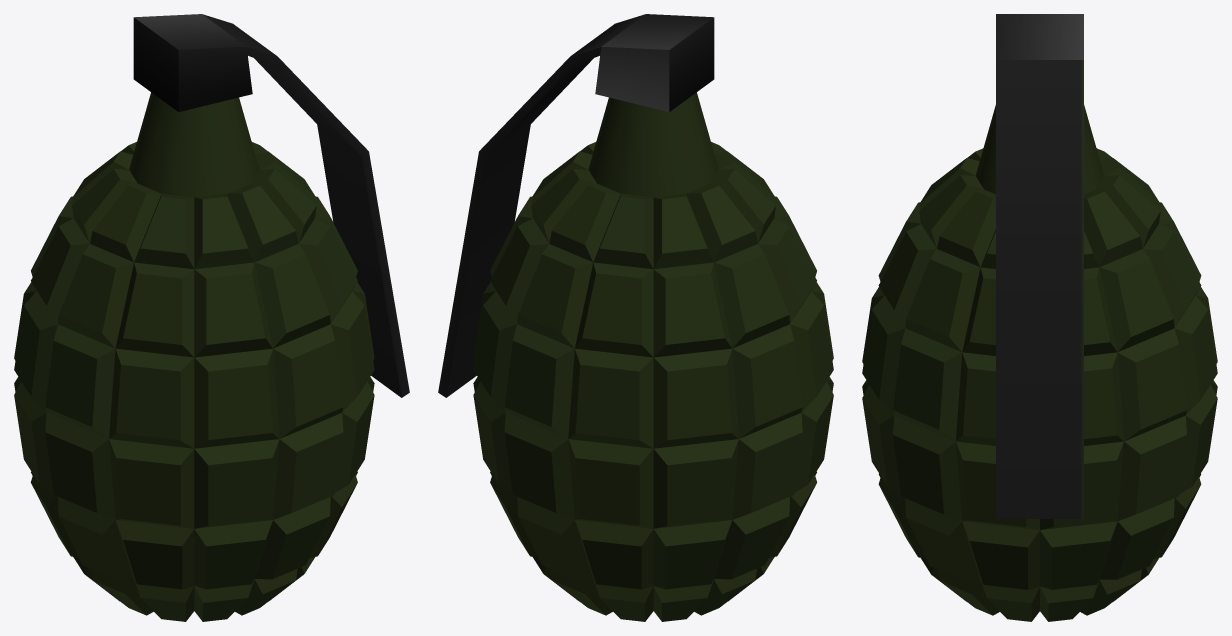
The model's file is Granade.fbx.
3 renders of one model, left to right at view 1: azimuth 30°, elevation 25°; view 2: azimuth 150°, elevation 25°; view 3: azimuth 270°, elevation 25°, orthographic.
Parts seen in each view (by area): view 1: Granade_Body, Granade_Handle; view 2: Granade_Body, Granade_Handle; view 3: Granade_Body, Granade_Handle.
Part boxes in pixels (bbox=[...]): Granade_Body: bbox=[14, 92, 374, 621]; Granade_Handle: bbox=[133, 14, 409, 397]; Granade_Body: bbox=[473, 92, 833, 621]; Granade_Handle: bbox=[438, 14, 714, 397]; Granade_Body: bbox=[862, 105, 1217, 621]; Granade_Handle: bbox=[996, 14, 1083, 518].
Size of the model in its own units: 1.19 by 1.87 by 1.06.
